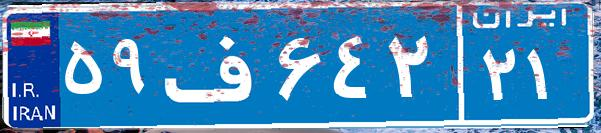1: (525, 38, 570, 115)
2: (385, 28, 445, 110), (475, 38, 525, 113)
4: (330, 28, 385, 110)
5: (57, 26, 110, 107)
6: (273, 28, 330, 110)
9: (110, 28, 158, 105)
ف: (158, 15, 273, 115)
